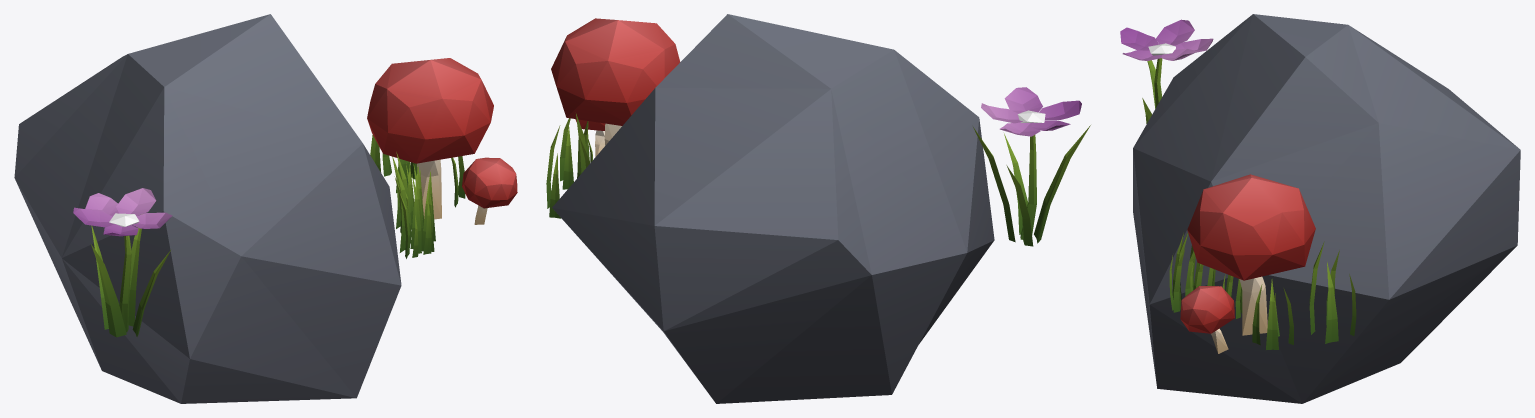
The model's file is Rock_06.fbx.
The picture shows the model from 3 angles, left to right: view 1: azimuth 30°, elevation 25°; view 2: azimuth 150°, elevation 25°; view 3: azimuth 270°, elevation 25°; orthographic projection. The views are drawn at different scales.
Parts seen in each view (by area): view 1: Rock_06; view 2: Rock_06; view 3: Rock_06.
Boxes of the visible parts, bbox=[...] form: Rock_06: bbox=[14, 14, 517, 403]; Rock_06: bbox=[546, 14, 1090, 403]; Rock_06: bbox=[1120, 14, 1520, 403].
Size of the model in its own units: 1.06 by 0.7332 by 0.815.
